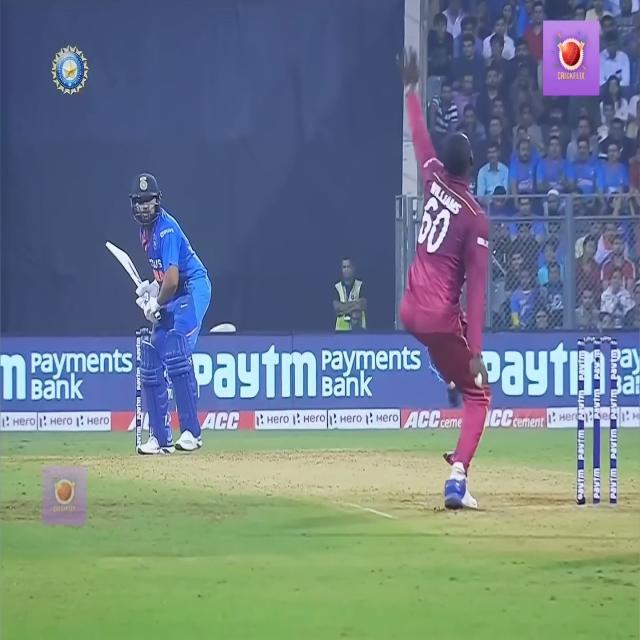partially_visible: (180, 341, 319, 418), (480, 333, 606, 414)
